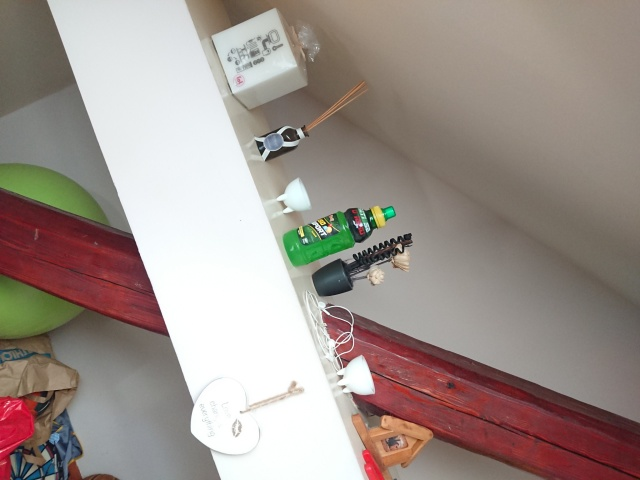Vindi Iso Sport Lemon-Grapefruit 500mL: (280, 203, 397, 269)
